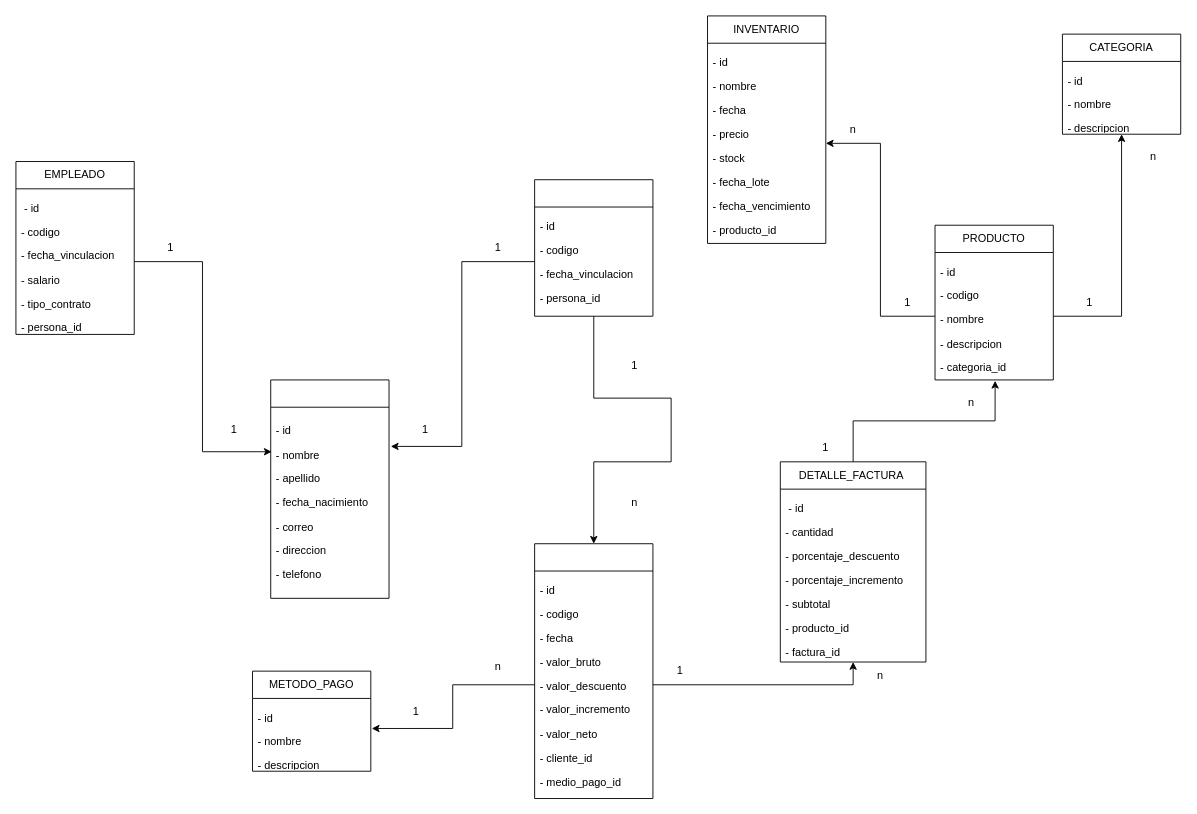
This 1197x814 diagram has some shape labels left out. The box of each missing label's shape, as (x1, y1, x2, y2) in pixels:
CLIENTE: (534, 179, 653, 316)
FACTURA: (534, 543, 653, 799)
PERSONA: (270, 379, 389, 598)
